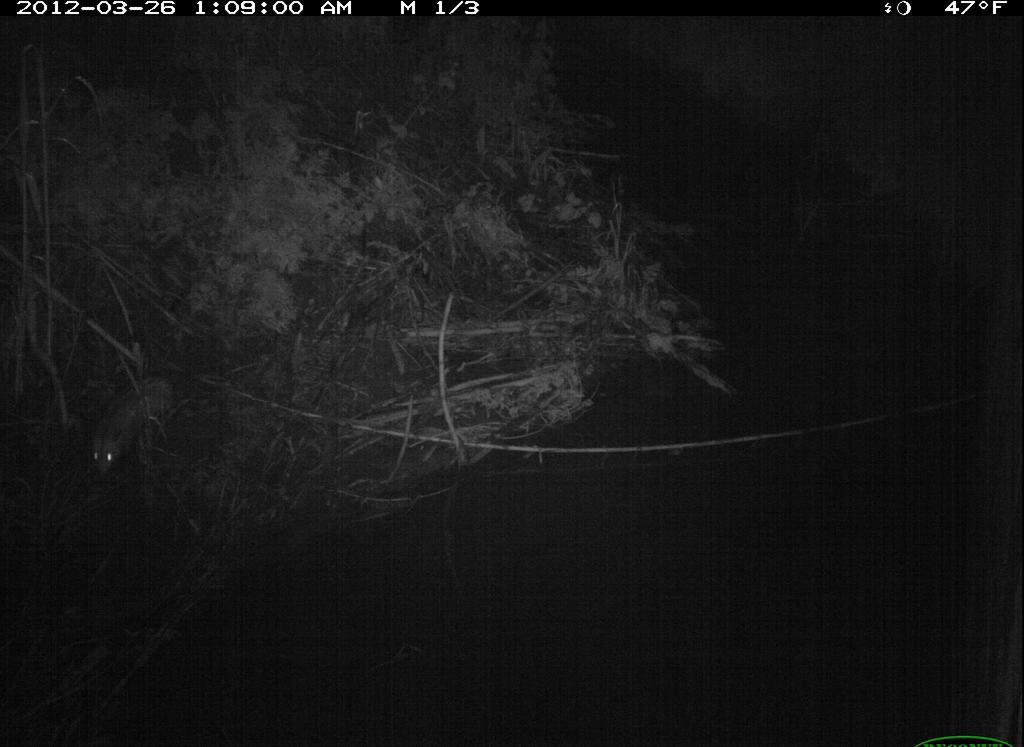opossum: (86, 365, 186, 482)
